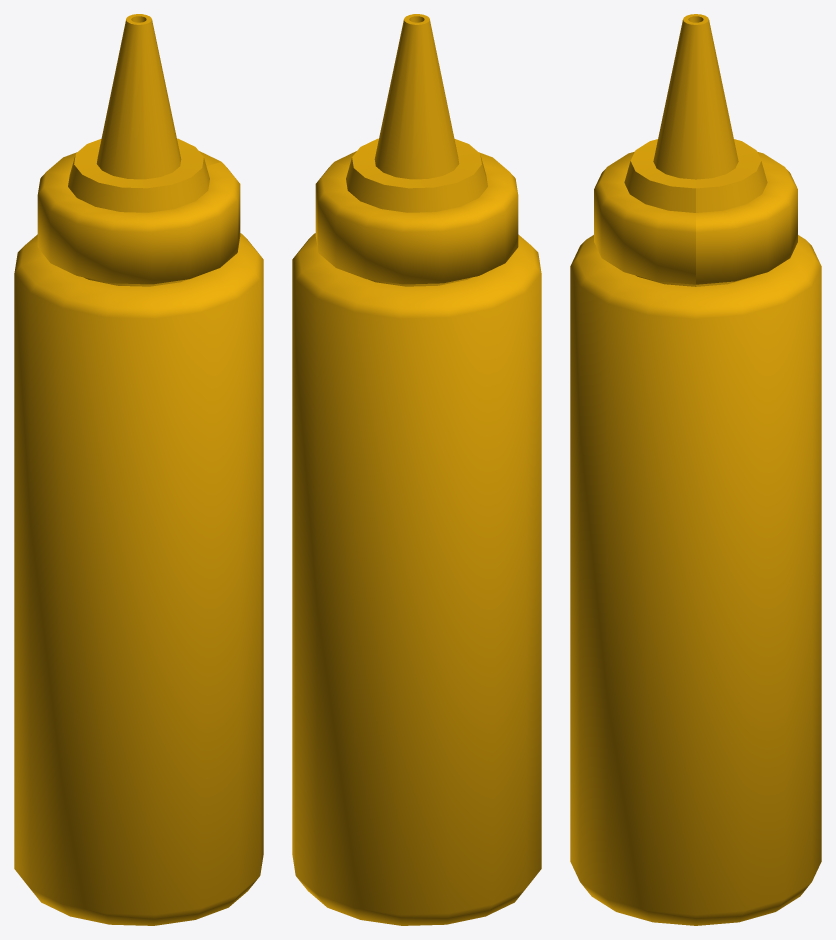
File: BottleMustard.fbx
3 views of the same model, side by side, from view 1: azimuth 30°, elevation 25°; view 2: azimuth 150°, elevation 25°; view 3: azimuth 270°, elevation 25° (orthographic).
Parts seen in each view (by area): view 1: Bottle Mustard; view 2: Bottle Mustard; view 3: Bottle Mustard.
Part boxes in pixels (left/top/right/bottom): Bottle Mustard: left=14, top=14, right=263, bottom=925; Bottle Mustard: left=292, top=14, right=541, bottom=925; Bottle Mustard: left=570, top=14, right=821, bottom=925.
Size of the model in its own units: 85.11 by 325 by 85.11.
